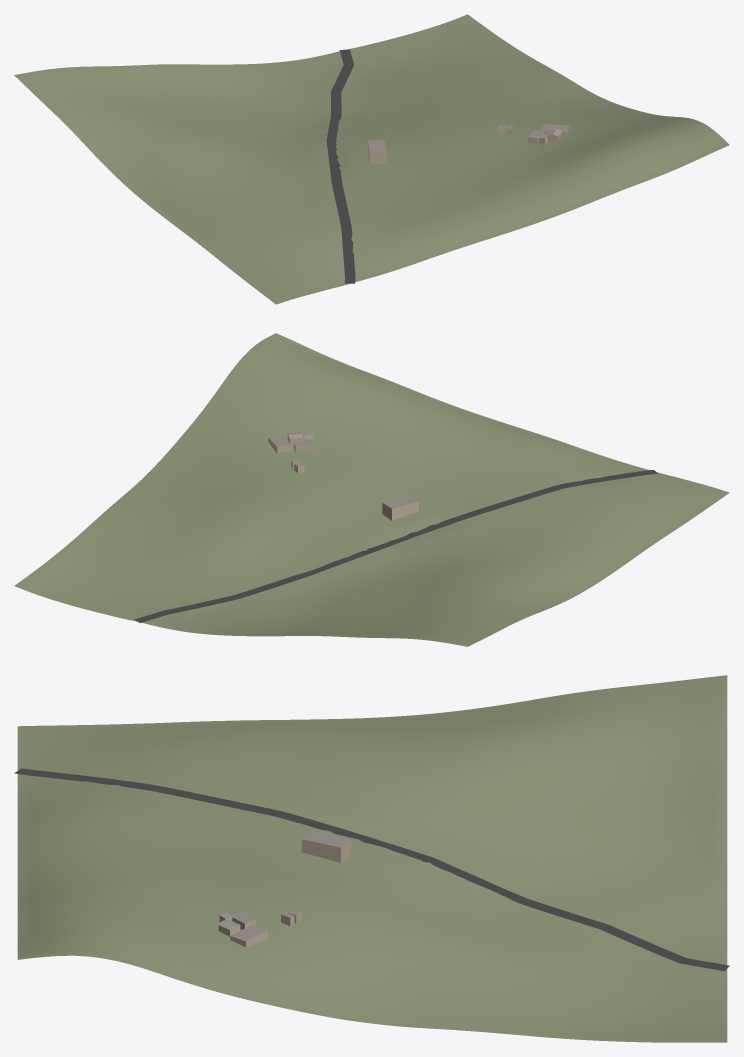
The picture shows the model from 3 angles, top to bottom: view 1: azimuth 30°, elevation 25°; view 2: azimuth 150°, elevation 25°; view 3: azimuth 270°, elevation 25°; orthographic projection. The views are drawn at different scales.
Visible parts, largest first — view 1: ground, road, walls, roofs; view 2: ground, road, walls, roofs; view 3: ground, road, walls, roofs.
Boxes of the visible parts, x1,y1,x2,y2 form: ground: (14, 14, 729, 304); road: (326, 49, 355, 283); walls: (368, 125, 569, 164); roofs: (368, 124, 568, 153); ground: (14, 333, 729, 646); road: (134, 470, 657, 622); walls: (268, 435, 418, 520); roofs: (268, 435, 418, 508); ground: (17, 675, 727, 1042); road: (14, 768, 729, 971); walls: (218, 839, 350, 947); roofs: (231, 830, 350, 941).
Bounding box in the file's own units: 250 × 37.02 × 252.
